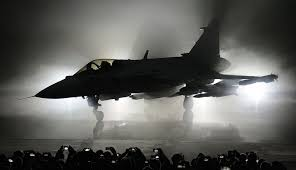fighter: (20, 15, 281, 124)
